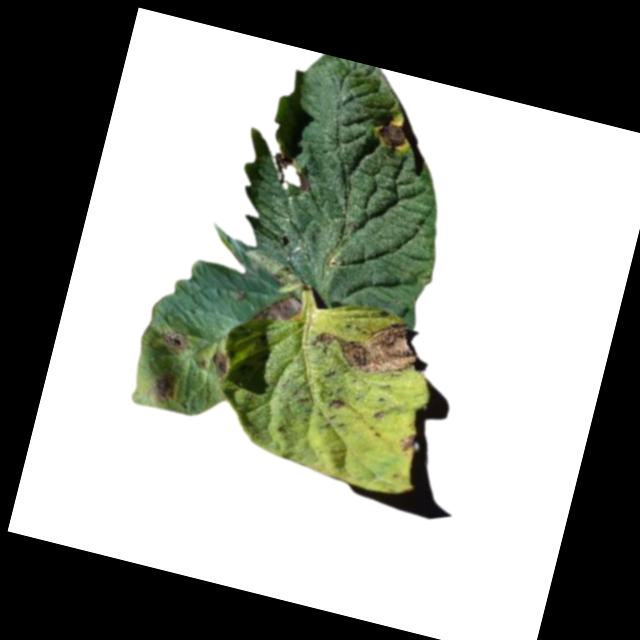Early_blight: (305, 303, 424, 386), (250, 287, 306, 331), (266, 151, 319, 195), (369, 118, 409, 152), (148, 368, 180, 404), (158, 327, 190, 358), (205, 350, 229, 383), (396, 432, 417, 454), (326, 397, 346, 414)
